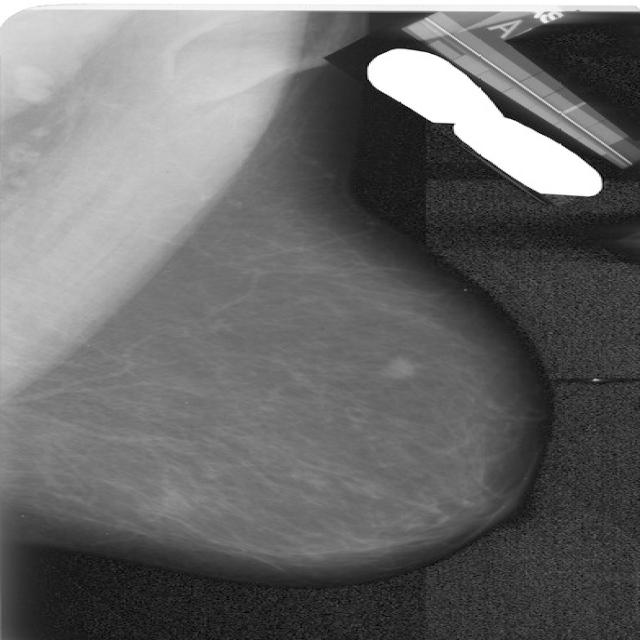tumour: (374, 354, 415, 379)
